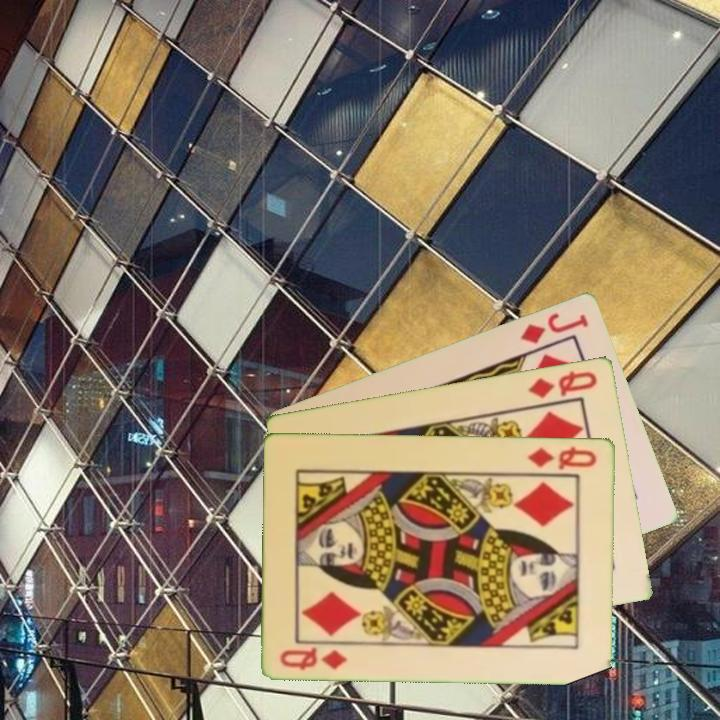Jd: (517, 308, 592, 347)
Qd: (524, 367, 600, 401), (525, 443, 600, 473), (277, 643, 351, 672)
